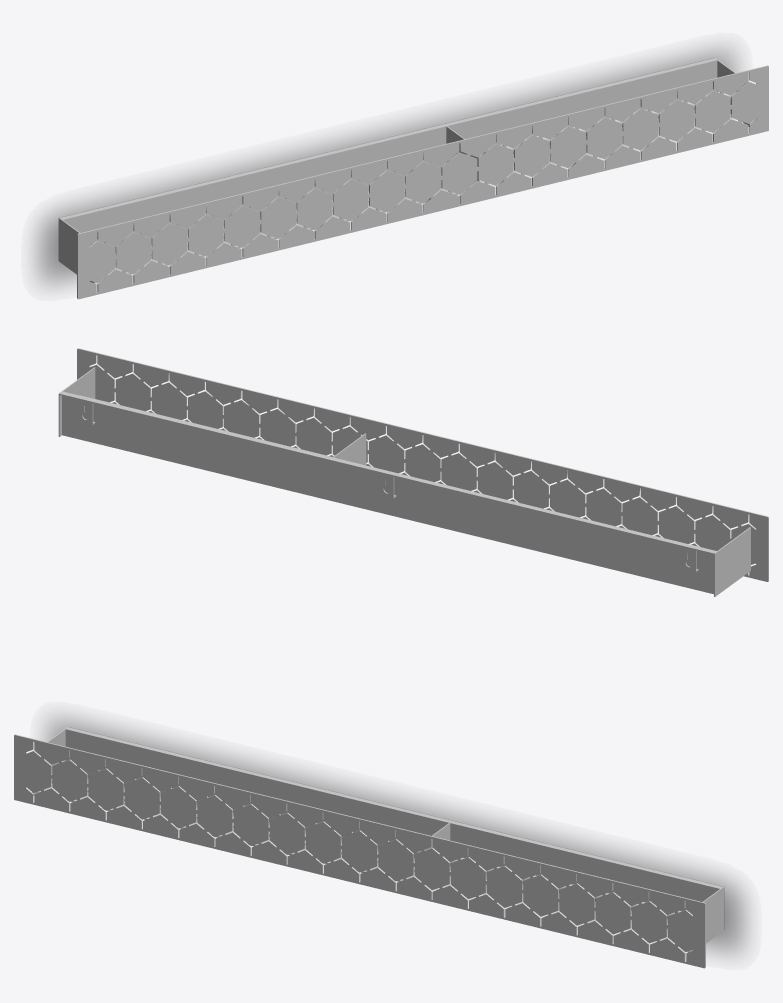
The model's file is bee-double.a49b66c1e8.ar.glb.
The picture shows the model from 3 angles, top to bottom: view 1: azimuth 30°, elevation 25°; view 2: azimuth 150°, elevation 25°; view 3: azimuth 330°, elevation 25°; orthographic projection.
Parts seen in each view (by area): view 1: NAUO1, object 2; view 2: NAUO1; view 3: NAUO1, object 2.
Part boxes in pixels (x1=…): NAUO1: x1=58, y1=57, x2=768, y2=299; object 2: x1=34, y1=48, x2=738, y2=285; NAUO1: x1=58, y1=348, x2=768, y2=596; NAUO1: x1=14, y1=726, x2=724, y2=968; object 2: x1=44, y1=717, x2=748, y2=954.
Size of the model in its own units: 1.08 by 0.17 by 0.092.
2 materials, 1 textured.
